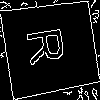R: (25, 23, 75, 67)
